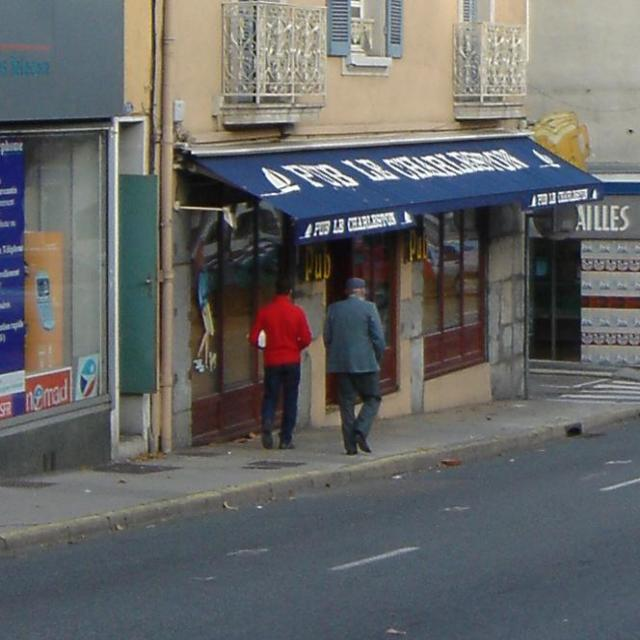non-fight: (322, 274, 391, 455), (250, 276, 315, 449)
